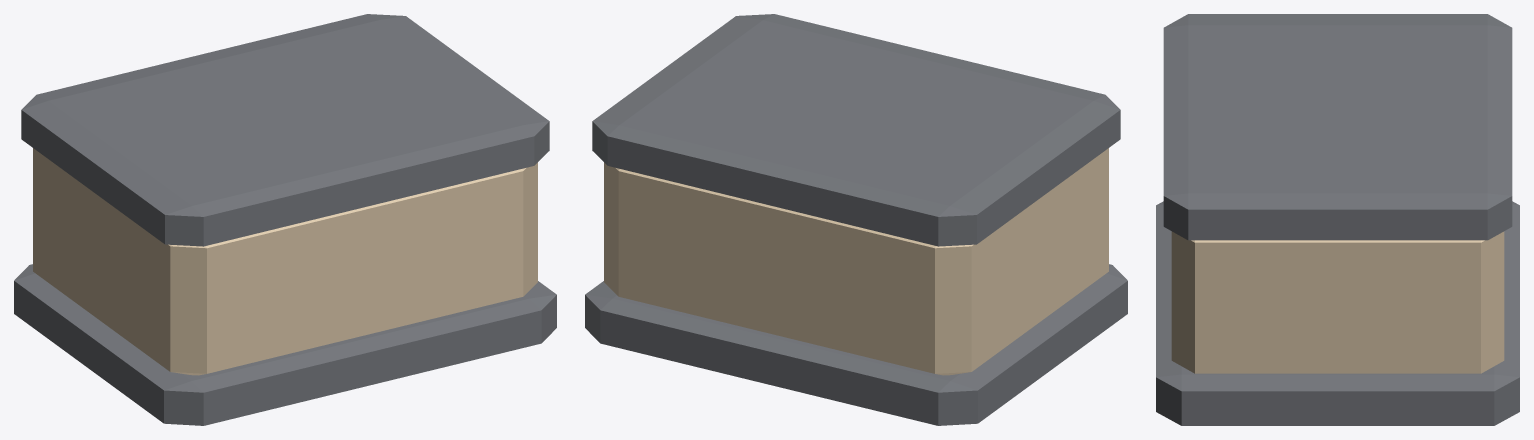
Rendered from b04_twine_bound_newspaper_bundle.glb.
The picture shows the model from 3 angles, left to right: view 1: azimuth 30°, elevation 25°; view 2: azimuth 150°, elevation 25°; view 3: azimuth 270°, elevation 25°; orthographic projection. The views are drawn at different scales.
Visible parts, largest first — view 1: b04_twine_bound_newspaper_bundle; view 2: b04_twine_bound_newspaper_bundle; view 3: b04_twine_bound_newspaper_bundle.
Boxes of the visible parts, left/top/right/bottom form: b04_twine_bound_newspaper_bundle: left=14, top=14, right=556, bottom=425; b04_twine_bound_newspaper_bundle: left=585, top=14, right=1127, bottom=425; b04_twine_bound_newspaper_bundle: left=1156, top=14, right=1519, bottom=425.
Bounding box in the file's own units: 0.416 × 0.213 × 0.32.
